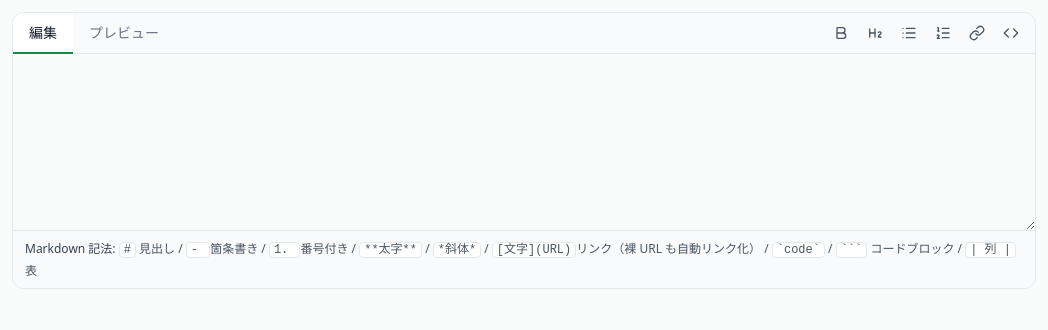
Scenario: MarkdownEditor › shows empty placeholder in preview when value is empty
Click the button "プレビュー".
click(124, 33)  # box [73,13,175,53]
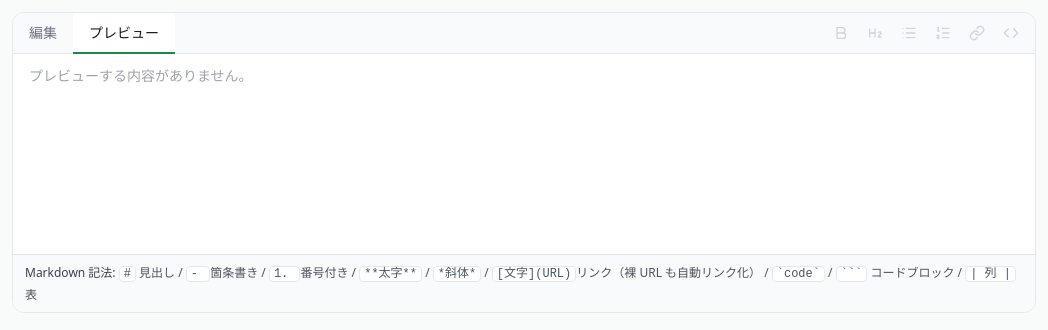
Expected: the text "プレビューする内容がありません。" is shown, [29,66,253,85]
